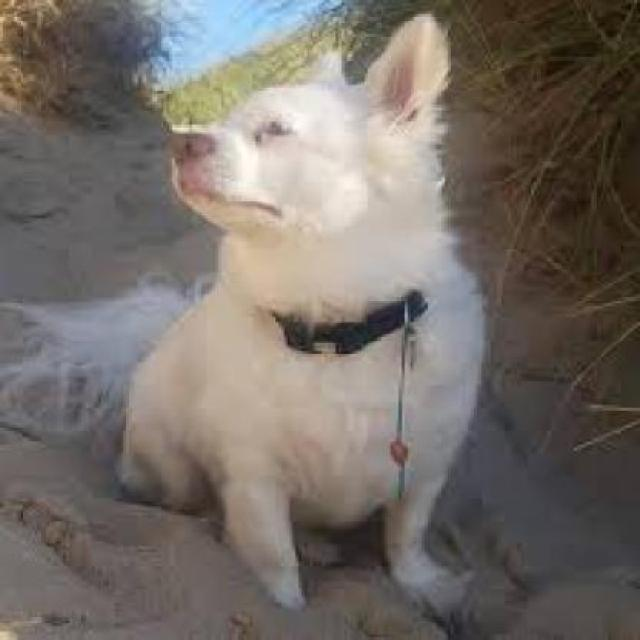Dog: (117, 8, 495, 614)
